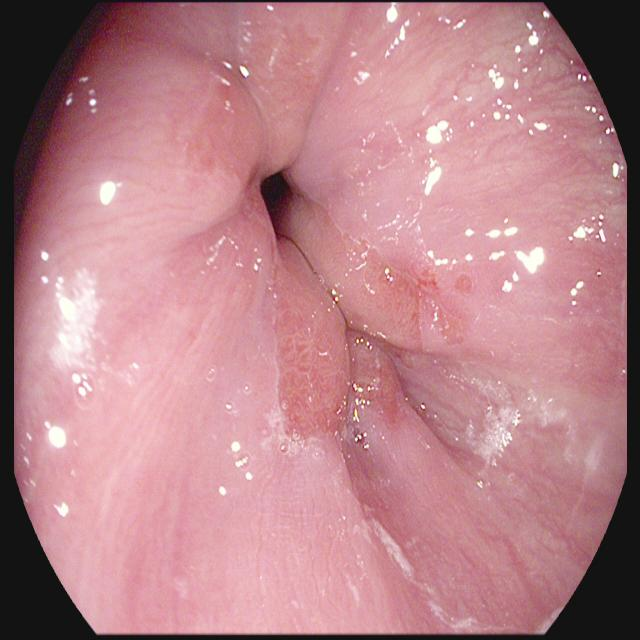Normal-Z-Line: (169, 0, 475, 459)
